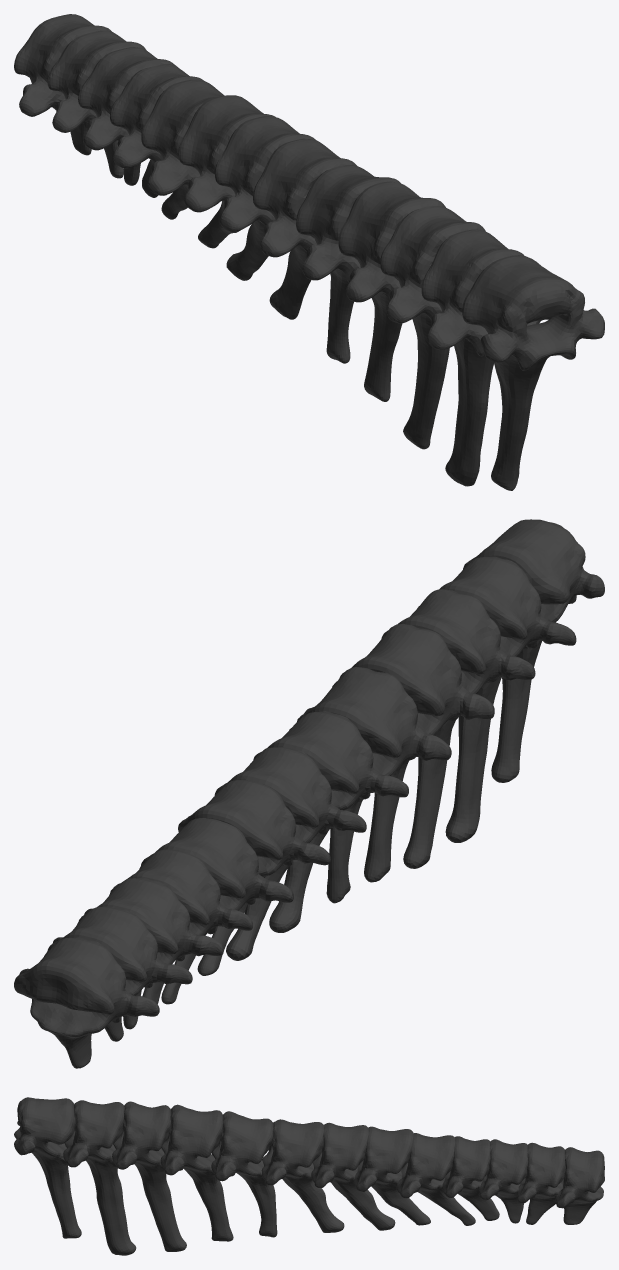
The model's file is Spine_thoracic_1.glb.
3 renders of one model, top to bottom at view 1: azimuth 30°, elevation 25°; view 2: azimuth 150°, elevation 25°; view 3: azimuth 270°, elevation 25°, orthographic. The views are drawn at different scales.
Visible parts, largest first — view 1: Spine_thoracic_1; view 2: Spine_thoracic_1; view 3: Spine_thoracic_1.
Part boxes in pixels (x1,y1,x2,y2): Spine_thoracic_1: [14, 14, 604, 490]; Spine_thoracic_1: [14, 519, 604, 1068]; Spine_thoracic_1: [14, 1097, 604, 1255].
Size of the model in its own units: 0.00135 by 0.00228 by 0.00793.
Materials: 1 (1 with a texture image).
